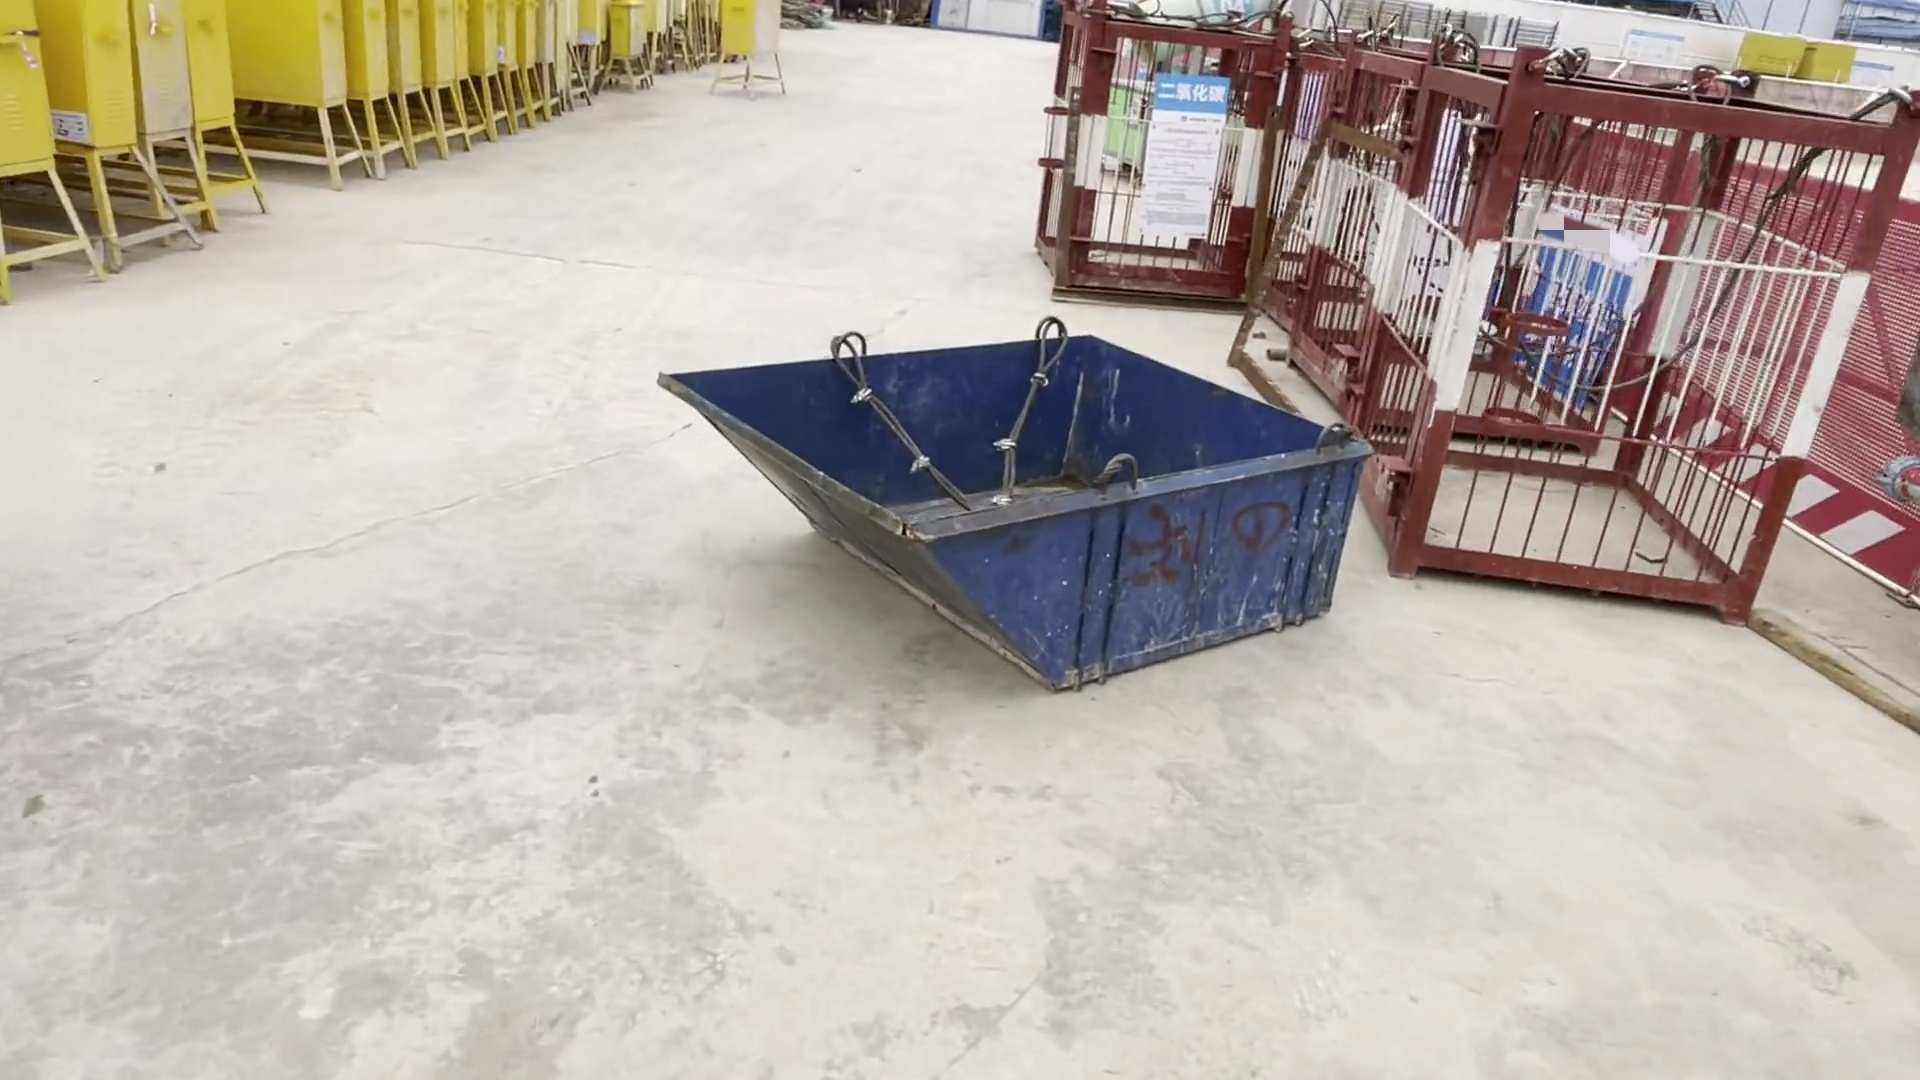ebox: (99, 1, 216, 256), (1, 1, 109, 264), (223, 1, 361, 179)
hopper: (673, 268, 1365, 702)
